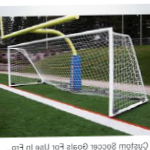goals: (6, 26, 149, 120)
